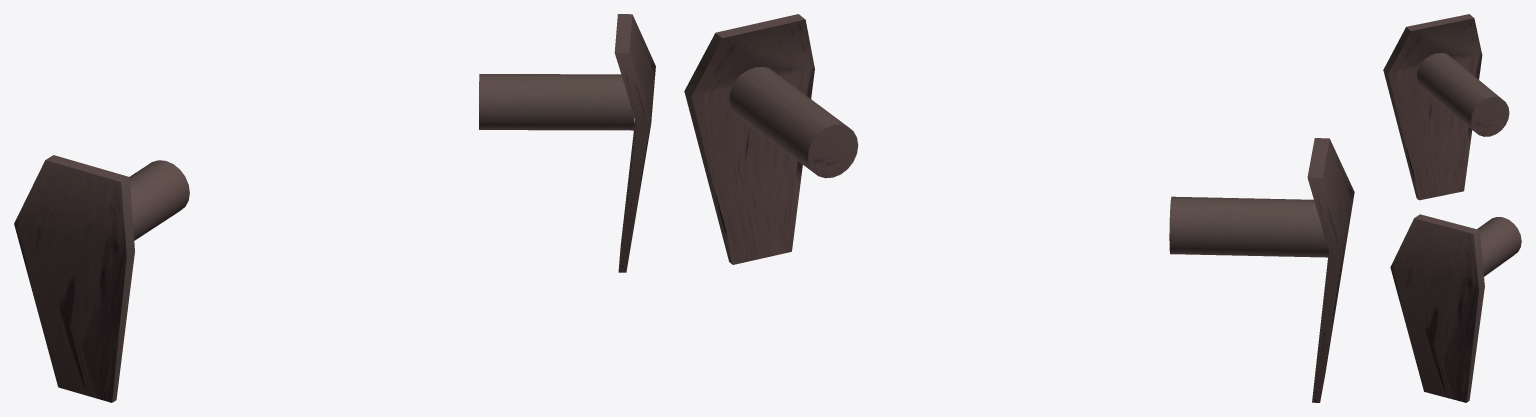
Rendered from Bot01_Leg_Flont.obj.
3 renders of one model, left to right at view 1: azimuth 30°, elevation 25°; view 2: azimuth 150°, elevation 25°; view 3: azimuth 270°, elevation 25°, orthographic. The views are drawn at different scales.
Visible parts, largest first — view 1: Bot01_Leg_Right1:pCylinder9; view 2: Bot01_Leg_Right1:pCylinder9; view 3: Bot01_Leg_Right1:pCylinder9.
Part boxes in pixels (x1,y1,x2,y2): Bot01_Leg_Right1:pCylinder9: (14, 14, 655, 402); Bot01_Leg_Right1:pCylinder9: (684, 14, 1354, 402); Bot01_Leg_Right1:pCylinder9: (1383, 14, 1521, 402).
Bounding box in the file's own units: 10.28 × 3.44 × 2.51.
Materials: 2 (2 with a texture image).
